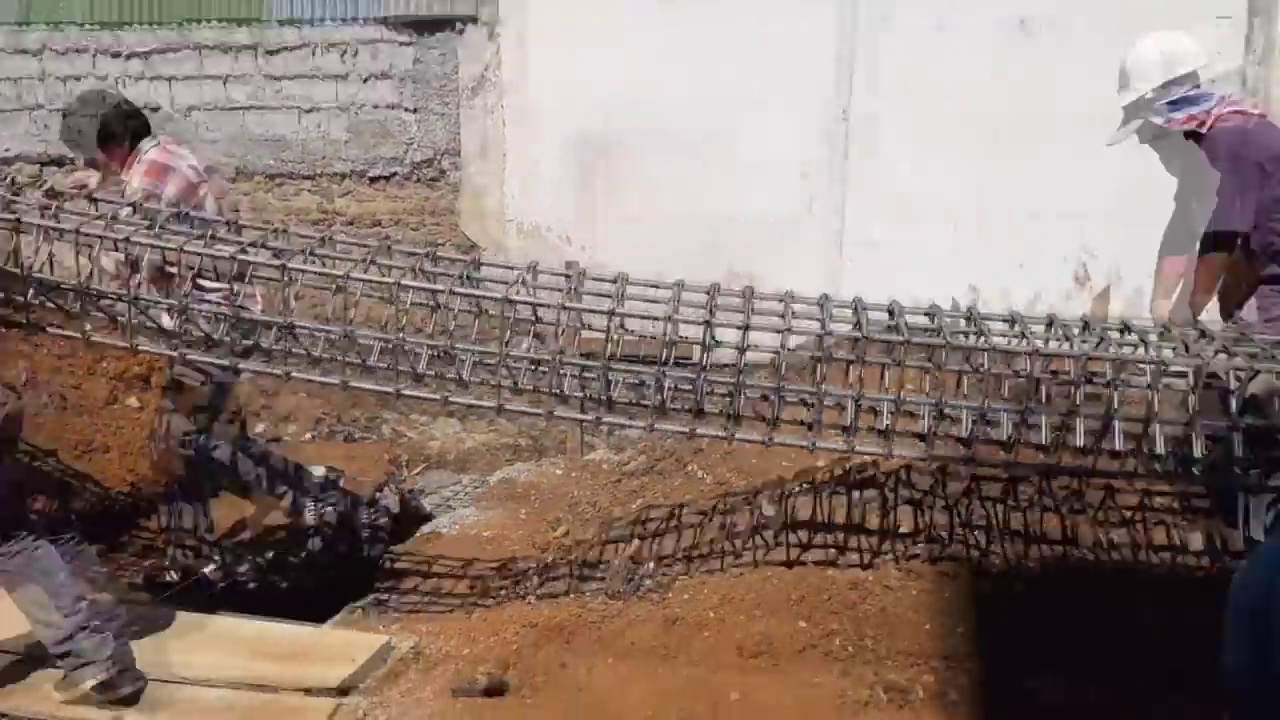helmet: (1116, 24, 1220, 115)
helmet-off: (77, 99, 143, 176)
helmet-on: (1111, 16, 1232, 171)
person: (62, 90, 387, 602), (1104, 10, 1280, 328), (0, 383, 147, 704)
